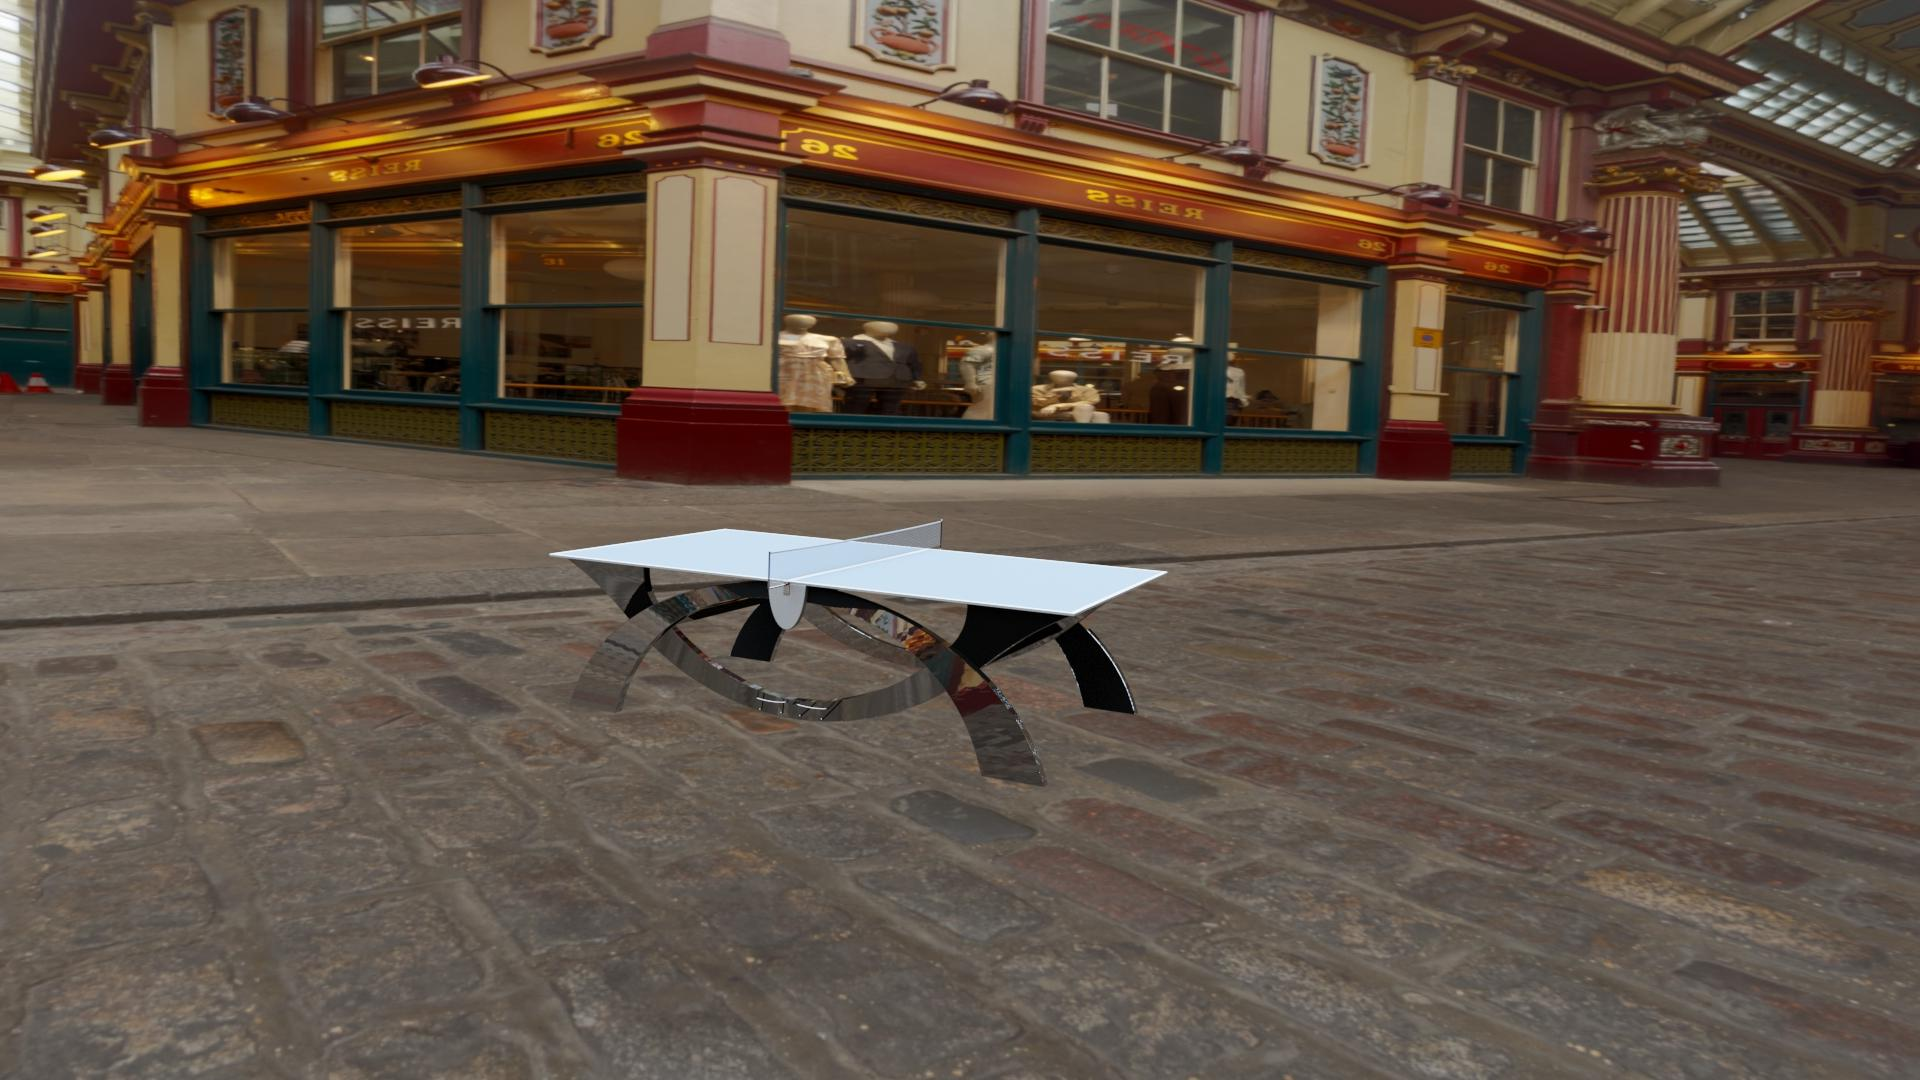table: (555, 530, 1163, 612)
